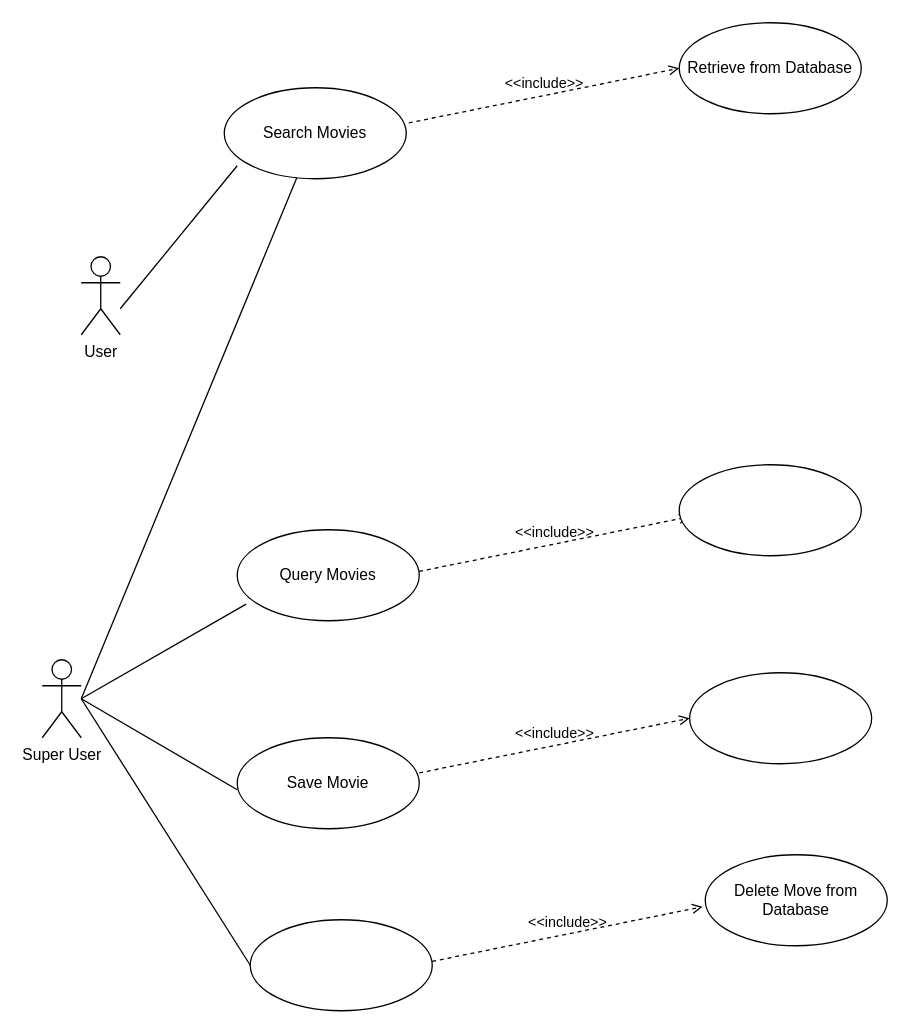
Some shapes in this 910 by 1034 pixel diagram are drawn without their labels. The shapes that lost their labels are listed below. From the top down, each one's box as (x1, y1, x2, y2) in pixels, then its label:
(678, 463, 861, 556): Retrieve from Api
(688, 671, 872, 764): Save to Database
(249, 918, 432, 1011): Remove Movie
